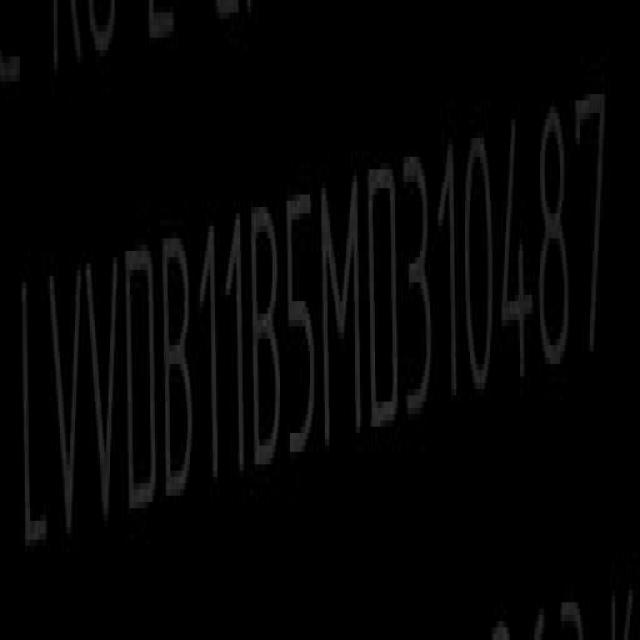0: (462, 129, 494, 406)
1: (439, 143, 459, 414), (228, 218, 248, 486), (204, 227, 223, 496)
3: (406, 154, 436, 426)
4: (501, 119, 534, 393)
5: (287, 186, 318, 470)
7: (576, 84, 608, 370)
8: (539, 102, 571, 377)
B: (163, 239, 196, 506), (252, 197, 283, 474)
D: (367, 158, 401, 442), (126, 239, 160, 515)
L: (15, 268, 48, 564)
M: (320, 168, 363, 456)
V: (46, 262, 83, 552), (87, 251, 122, 539)
